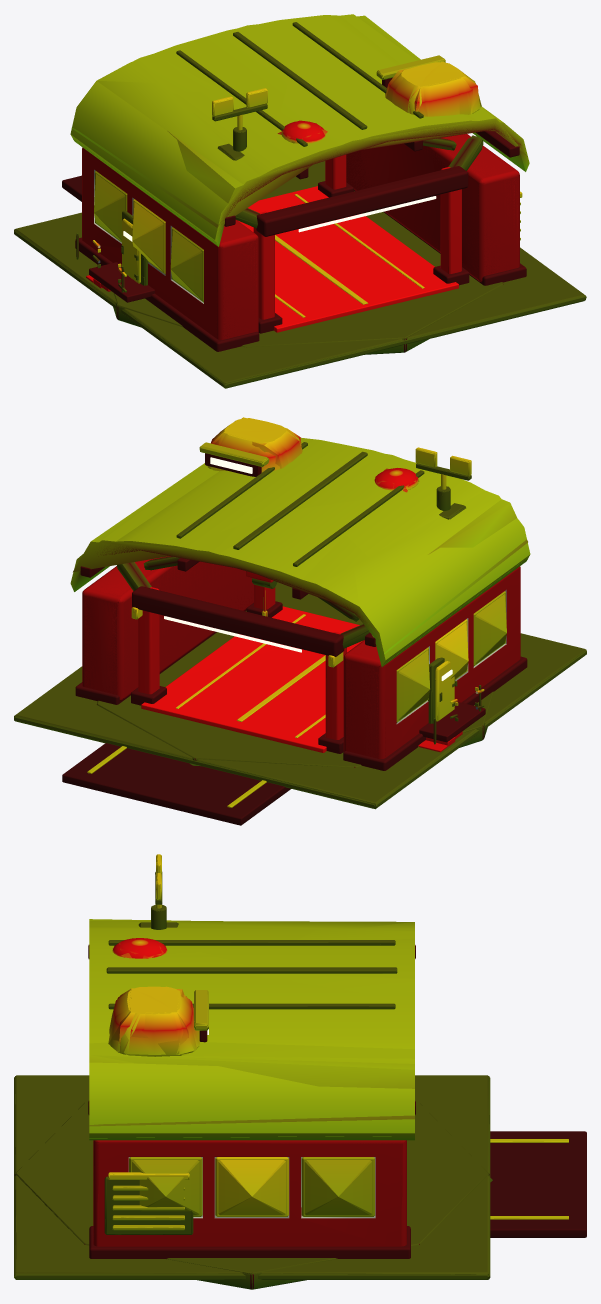
Rendered from OverlordCommandHQFactory_LODs.fbx.
The picture shows the model from 3 angles, top to bottom: view 1: azimuth 30°, elevation 25°; view 2: azimuth 150°, elevation 25°; view 3: azimuth 270°, elevation 25°; orthographic projection. The views are drawn at different scales.
Visible parts, largest first — view 1: OverlordCommandHQFactory_LOD0_OverlordCommandHQFactoryArmor_ (×9), OverlordCommandHQFactory_LOD1_OverlordCommandHQFactoryArmor_ (×7), OverlordCommandHQFactory_LOD0_FoundationDeck, OverlordCommandHQFactory_LOD0_OverlordCommandHQFactoryFloor_ (×2), OverlordCommandHQFactory_LOD0_FoundationOctagon, OverlordCommandHQFactory_LOD2_OverlordCommandHQFactoryArmor_ (×2), OverlordCommandHQFactory_LOD1_FoundationOctagon, OverlordCommandHQFactory_LOD0_OverlordCommandHQFactoryGantry, OverlordCommandHQFactory_LOD0_OverlordCommandHQFactoryFrame_ (×3), OverlordCommandHQFactory_LOD0_OverlordCommandHQFactoryFrame. (×2), OverlordCommandHQFactory_LOD0_OverlordCommandHQFactoryMainte (×2), OverlordCommandHQFactory_LOD0_OverlordCommandHQFactorySensor (+3 smaller); view 2: OverlordCommandHQFactory_LOD0_OverlordCommandHQFactoryArmor_ (×9), OverlordCommandHQFactory_LOD1_OverlordCommandHQFactoryArmor_ (×7), OverlordCommandHQFactory_LOD0_FoundationDeck, OverlordCommandHQFactory_LOD0_OverlordCommandHQFactoryFloor_ (×2), OverlordCommandHQFactory_LOD0_OverlordCommandHQFactoryRamp_D, OverlordCommandHQFactory_LOD0_FoundationOctagon, OverlordCommandHQFactory_LOD0_OverlordCommandHQFactoryGantry, OverlordCommandHQFactory_LOD2_OverlordCommandHQFactoryArmor_ (×2), OverlordCommandHQFactory_LOD0_OverlordCommandHQFactoryFrame_ (×2), OverlordCommandHQFactory_LOD0_OverlordCommandHQFactoryMainte (×2), OverlordCommandHQFactory_LOD1_FoundationOctagon, OverlordCommandHQFactory_LOD0_OverlordCommandHQFactorySensor (+1 smaller); view 3: OverlordCommandHQFactory_LOD0_OverlordCommandHQFactoryArmor_ (×7), OverlordCommandHQFactory_LOD0_FoundationDeck, OverlordCommandHQFactory_LOD1_OverlordCommandHQFactoryArmor_ (×3), OverlordCommandHQFactory_LOD0_FoundationOctagon, OverlordCommandHQFactory_LOD1_OverlordCommandHQFactoryArmor. (×3), OverlordCommandHQFactory_LOD0_OverlordCommandHQFactoryRamp_D, OverlordCommandHQFactory_LOD2_OverlordCommandHQFactoryArmor_ (×3), OverlordCommandHQFactory_LOD1_FoundationOctagon, OverlordCommandHQFactory_LOD0_OverlordCommandHQFactoryArmor, OverlordCommandHQFactory_LOD0_OverlordCommandHQFactoryPower_, OverlordCommandHQFactory_LOD0_OverlordCommandHQFactoryArmor. (×2), OverlordCommandHQFactory_LOD1_FoundationDeck (+1 smaller).
Boxes of the visible parts, bbox=[...] form: OverlordCommandHQFactory_LOD0_OverlordCommandHQFactoryArmor_ (×9): bbox=[70, 15, 529, 351]; OverlordCommandHQFactory_LOD1_OverlordCommandHQFactoryArmor_ (×7): bbox=[73, 14, 521, 339]; OverlordCommandHQFactory_LOD0_FoundationDeck: bbox=[14, 161, 586, 388]; OverlordCommandHQFactory_LOD0_OverlordCommandHQFactoryFloor_ (×2): bbox=[237, 186, 458, 332]; OverlordCommandHQFactory_LOD0_FoundationOctagon: bbox=[113, 176, 503, 354]; OverlordCommandHQFactory_LOD2_OverlordCommandHQFactoryArmor_ (×2): bbox=[72, 15, 527, 227]; OverlordCommandHQFactory_LOD1_FoundationOctagon: bbox=[117, 192, 485, 354]; OverlordCommandHQFactory_LOD0_OverlordCommandHQFactoryGantry: bbox=[256, 166, 468, 236]; OverlordCommandHQFactory_LOD0_OverlordCommandHQFactoryFrame_ (×3): bbox=[254, 131, 519, 319]; OverlordCommandHQFactory_LOD0_OverlordCommandHQFactoryFrame. (×2): bbox=[440, 136, 483, 273]; OverlordCommandHQFactory_LOD0_OverlordCommandHQFactoryMainte (×2): bbox=[89, 218, 154, 302]; OverlordCommandHQFactory_LOD0_OverlordCommandHQFactorySensor: bbox=[282, 121, 325, 143]; OverlordCommandHQFactory_LOD0_OverlordCommandHQFactoryArmor_ (×9): bbox=[70, 418, 530, 770]; OverlordCommandHQFactory_LOD1_OverlordCommandHQFactoryArmor_ (×7): bbox=[72, 418, 521, 757]; OverlordCommandHQFactory_LOD0_FoundationDeck: bbox=[14, 582, 586, 809]; OverlordCommandHQFactory_LOD0_OverlordCommandHQFactoryFloor_ (×2): bbox=[141, 606, 363, 752]; OverlordCommandHQFactory_LOD0_OverlordCommandHQFactoryRamp_D: bbox=[62, 743, 291, 825]; OverlordCommandHQFactory_LOD0_FoundationOctagon: bbox=[97, 597, 493, 767]; OverlordCommandHQFactory_LOD0_OverlordCommandHQFactoryGantry: bbox=[132, 586, 344, 656]; OverlordCommandHQFactory_LOD2_OverlordCommandHQFactoryArmor_ (×2): bbox=[73, 417, 527, 654]; OverlordCommandHQFactory_LOD0_OverlordCommandHQFactoryFrame_ (×2): bbox=[138, 587, 346, 739]; OverlordCommandHQFactory_LOD0_OverlordCommandHQFactoryMainte (×2): bbox=[419, 661, 485, 742]; OverlordCommandHQFactory_LOD1_FoundationOctagon: bbox=[117, 612, 492, 766]; OverlordCommandHQFactory_LOD0_OverlordCommandHQFactorySensor: bbox=[374, 468, 418, 490]; OverlordCommandHQFactory_LOD0_OverlordCommandHQFactoryArmor_ (×7): bbox=[89, 922, 414, 1246]; OverlordCommandHQFactory_LOD0_FoundationDeck: bbox=[14, 1075, 490, 1279]; OverlordCommandHQFactory_LOD1_OverlordCommandHQFactoryArmor_ (×3): bbox=[89, 920, 414, 1244]; OverlordCommandHQFactory_LOD0_FoundationOctagon: bbox=[14, 1102, 489, 1289]; OverlordCommandHQFactory_LOD1_OverlordCommandHQFactoryArmor. (×3): bbox=[132, 1160, 372, 1215]; OverlordCommandHQFactory_LOD0_OverlordCommandHQFactoryRamp_D: bbox=[490, 1131, 586, 1237]; OverlordCommandHQFactory_LOD2_OverlordCommandHQFactoryArmor_ (×3): bbox=[89, 919, 414, 1246]; OverlordCommandHQFactory_LOD1_FoundationOctagon: bbox=[14, 1102, 489, 1289]; OverlordCommandHQFactory_LOD0_OverlordCommandHQFactoryArmor: bbox=[89, 1226, 410, 1258]; OverlordCommandHQFactory_LOD0_OverlordCommandHQFactoryPower_: bbox=[104, 1176, 192, 1234]; OverlordCommandHQFactory_LOD0_OverlordCommandHQFactoryArmor. (×2): bbox=[215, 1157, 374, 1216]; OverlordCommandHQFactory_LOD1_FoundationDeck: bbox=[14, 1076, 489, 1279].
Bounding box in the file's own units: 958 × 591 × 1155.
